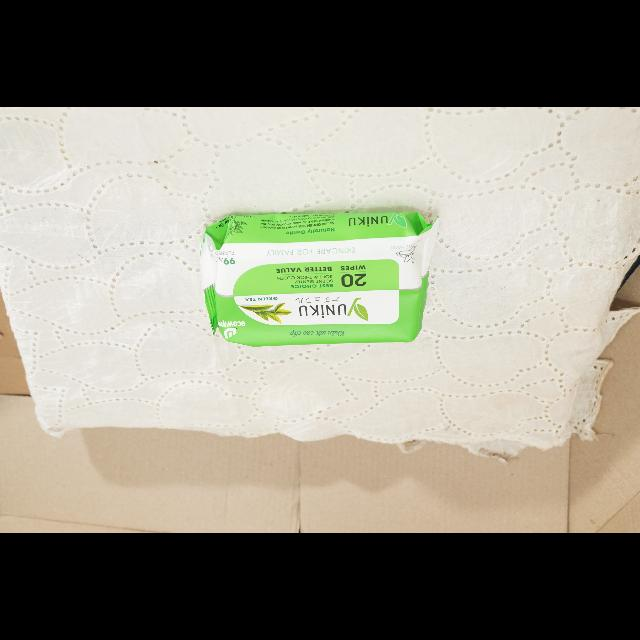khan_giay: (201, 212, 439, 346)
